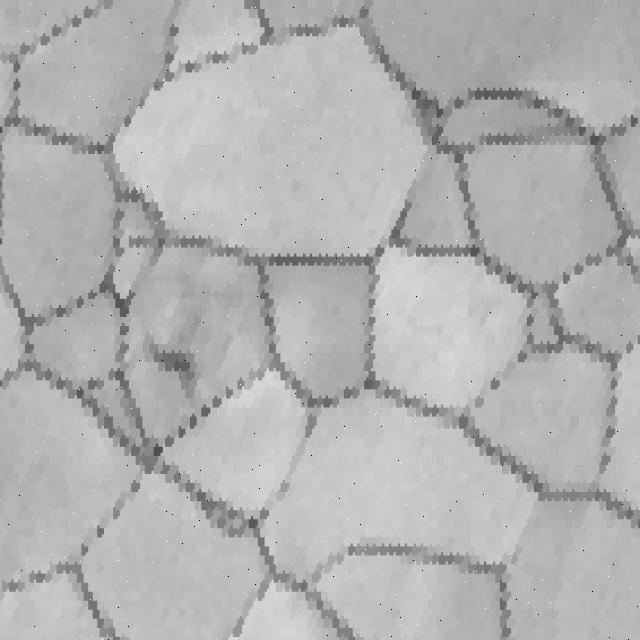good_void: (143, 337, 202, 402)
